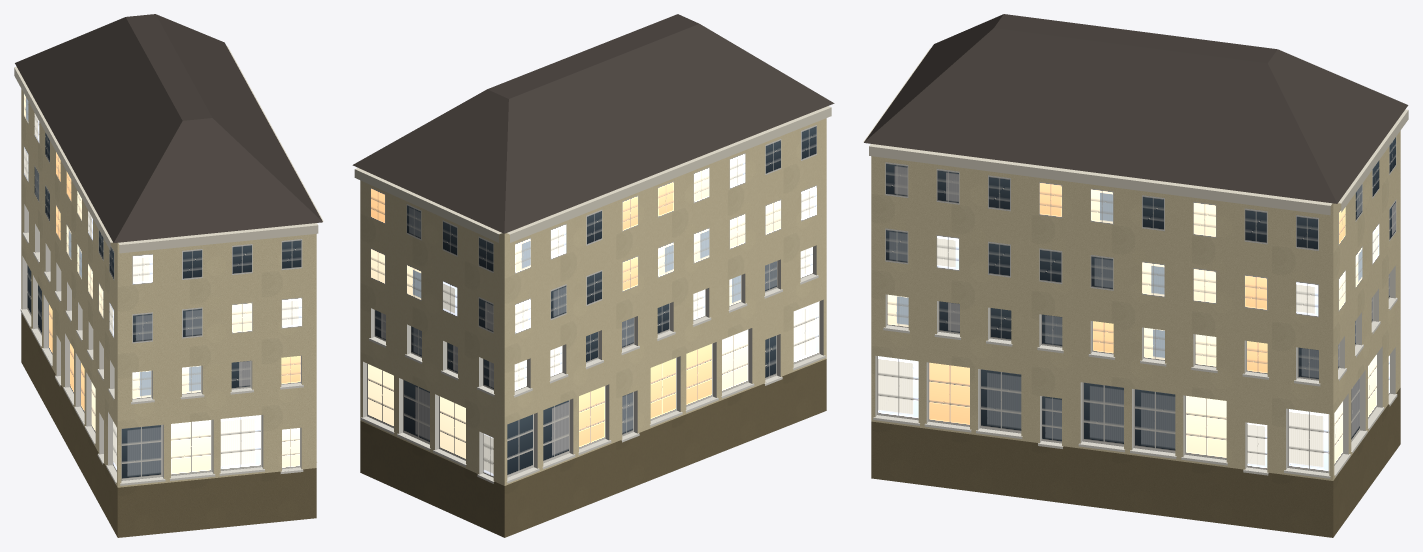
Rendered from z5b_altst150.glb.
The picture shows the model from 3 angles, left to right: view 1: azimuth 30°, elevation 25°; view 2: azimuth 150°, elevation 25°; view 3: azimuth 270°, elevation 25°; orthographic projection. The views are drawn at different scales.
Visible parts, largest first — view 1: z5b_altst150; view 2: z5b_altst150; view 3: z5b_altst150.
Part boxes in pixels (<box>): z5b_altst150: <box>14,14,323,537</box>; z5b_altst150: <box>352,14,834,537</box>; z5b_altst150: <box>863,14,1408,537</box>.
Bounding box in the file's own units: 18.08 × 22.28 × 26.05.
Materials: 3 (3 with a texture image).
